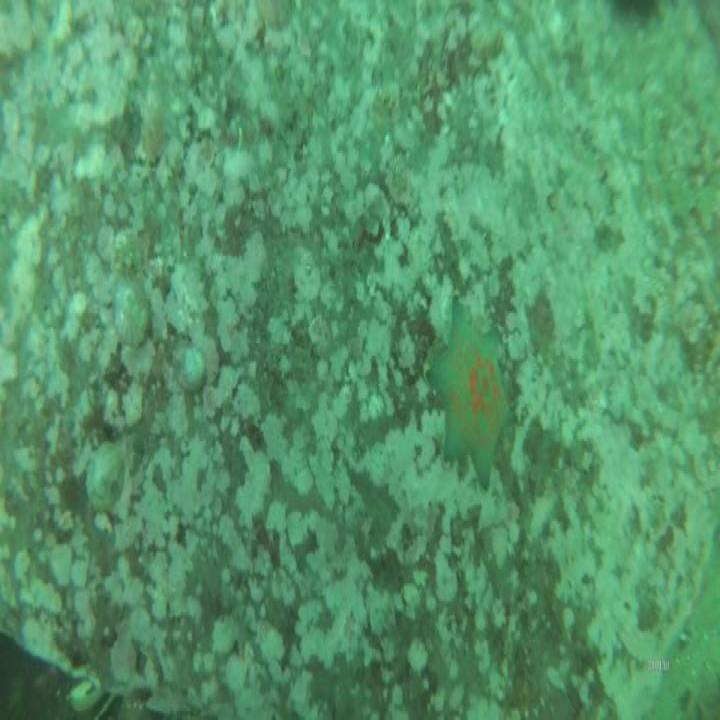starfish: (431, 306, 513, 487)
